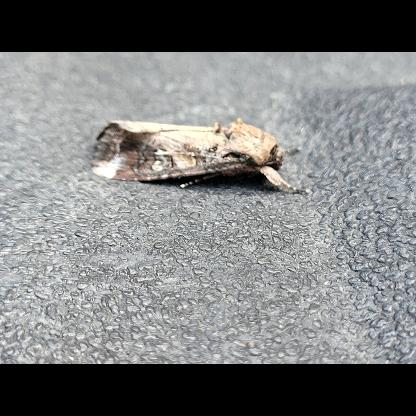Fall Armyworm Moth: (86, 115, 308, 197)
